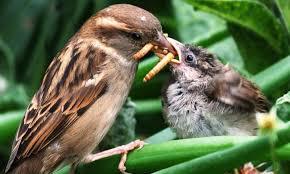hsparrow: (8, 3, 172, 174), (162, 32, 269, 143)
